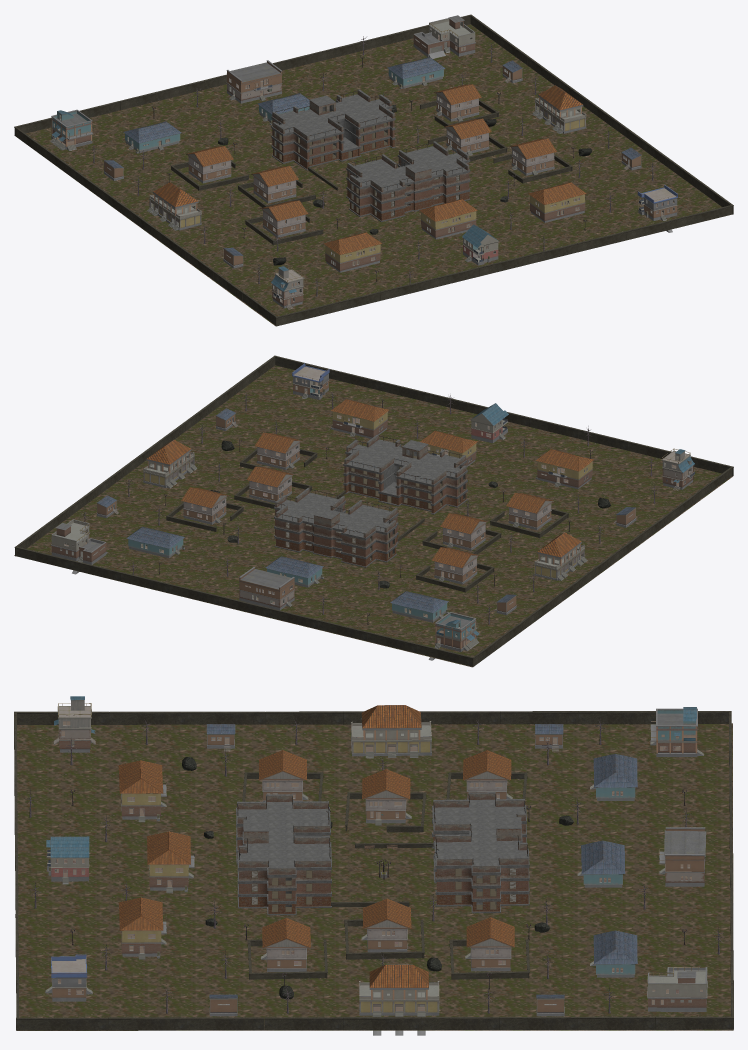
The model's file is map.glb.
3 views of the same model, one above another, from view 1: azimuth 30°, elevation 25°; view 2: azimuth 150°, elevation 25°; view 3: azimuth 270°, elevation 25° (orthographic). The views are drawn at different scales.
Parts seen in each view (by area): view 1: Plane_2, Wall_8, Part_13_0, Part_14_0, Part_11_2, Part_03_1, Part_09_1, Part_18_1, Part_15_1, Part_25_2, Part_23_1, Part_20_1 (+15 smaller); view 2: Plane_2, Wall_8, Part_14_0, Part_13_0, Part_11_2, Part_03_1, Part_09_1, Part_18_1, Part_25_2, Part_20_1, Part_21_1, Part_07_1 (+14 smaller); view 3: Plane_2, Wall_8, Part_13_0, Part_14_0, Part_03_1, Part_25_2, Part_11_2, Part_18_1, Part_09_1, Part_15_1, Part_20_1, Part_21_1 (+20 smaller).
Part boxes in pixels (x1,y1,x2,y2): Plane_2: [26, 24, 729, 325]; Wall_8: [14, 14, 733, 326]; Part_13_0: [271, 89, 395, 170]; Part_14_0: [346, 141, 470, 222]; Part_11_2: [226, 60, 282, 103]; Part_03_1: [147, 182, 201, 230]; Part_09_1: [323, 232, 382, 272]; Part_18_1: [528, 182, 586, 222]; Part_15_1: [419, 199, 477, 239]; Part_25_2: [535, 85, 586, 133]; Part_23_1: [413, 15, 475, 58]; Part_20_1: [434, 84, 481, 121]; Plane_2: [14, 365, 732, 667]; Wall_8: [14, 355, 733, 666]; Part_14_0: [343, 434, 467, 514]; Part_13_0: [274, 488, 398, 567]; Part_11_2: [239, 567, 294, 610]; Part_03_1: [534, 532, 587, 580]; Part_09_1: [535, 449, 594, 489]; Part_18_1: [330, 399, 389, 438]; Part_25_2: [143, 439, 194, 487]; Part_20_1: [181, 487, 228, 524]; Part_21_1: [255, 432, 302, 469]; Part_07_1: [432, 547, 479, 584]; Plane_2: [17, 723, 733, 1030]; Wall_8: [14, 711, 733, 1030]; Part_13_0: [432, 792, 529, 913]; Part_14_0: [236, 794, 331, 915]; Part_03_1: [351, 705, 431, 758]; Part_25_2: [359, 964, 439, 1015]; Part_11_2: [659, 827, 706, 886]; Part_18_1: [118, 897, 166, 959]; Part_09_1: [118, 760, 166, 822]; Part_15_1: [146, 831, 194, 893]; Part_20_1: [465, 917, 514, 971]; Part_21_1: [261, 918, 310, 971].
Size of the model in its own units: 217 by 21.31 by 214.
9 materials, 9 textured.
